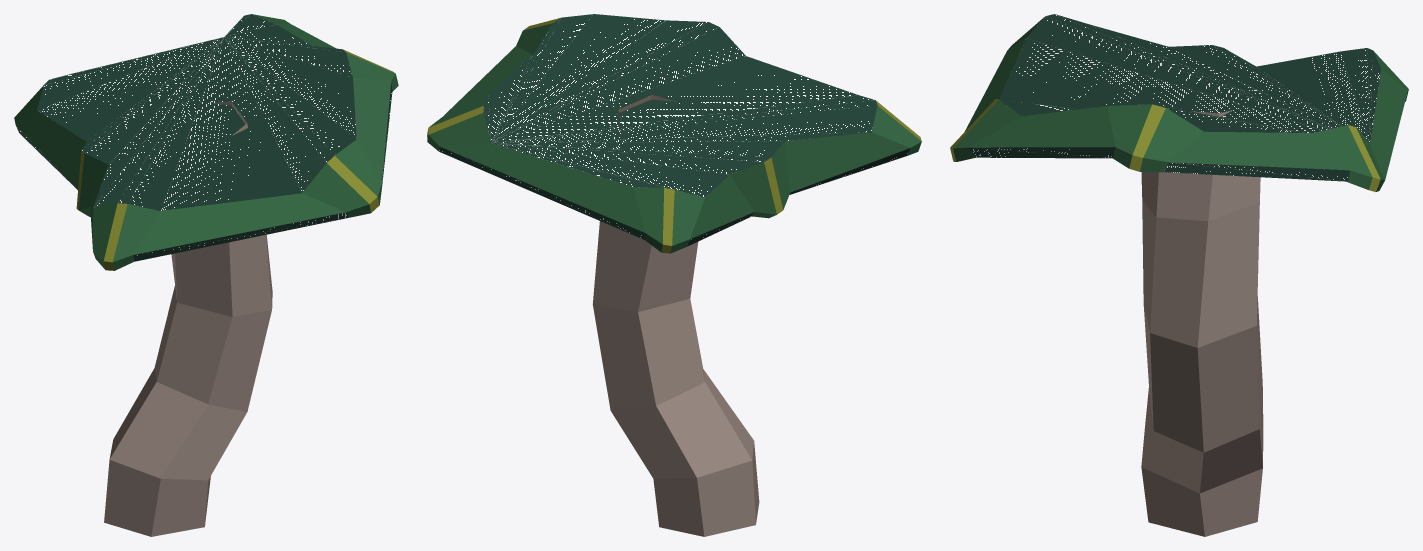
The model's file is CoconutPalm02_DFS.fbx.
3 renders of one model, left to right at view 1: azimuth 30°, elevation 25°; view 2: azimuth 150°, elevation 25°; view 3: azimuth 270°, elevation 25°, orthographic. The views are drawn at different scales.
Parts seen in each view (by area): view 1: Palm2.001; view 2: Palm2.001; view 3: Palm2.001.
Boxes of the visible parts, x1,y1,x2,y2 form: Palm2.001: (14, 14, 398, 536); Palm2.001: (427, 14, 921, 536); Palm2.001: (950, 14, 1408, 536).
Size of the model in its own units: 179 by 218 by 182.
